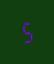five: (19, 20, 33, 43)
